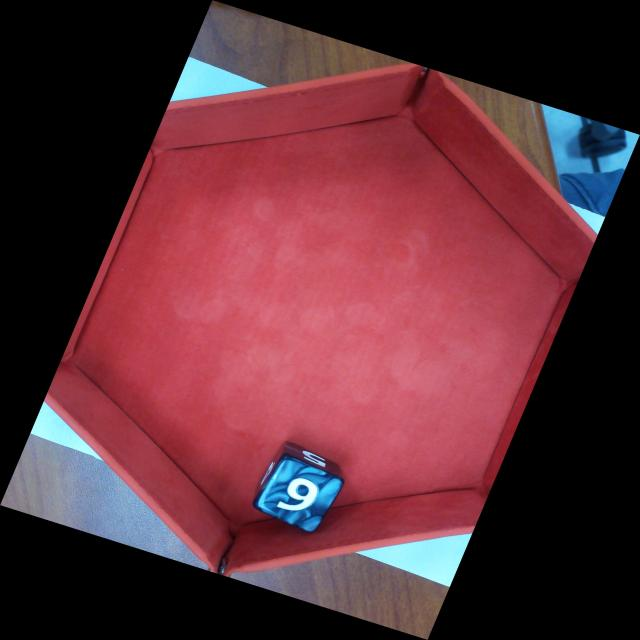dice: (262, 461, 338, 534)
